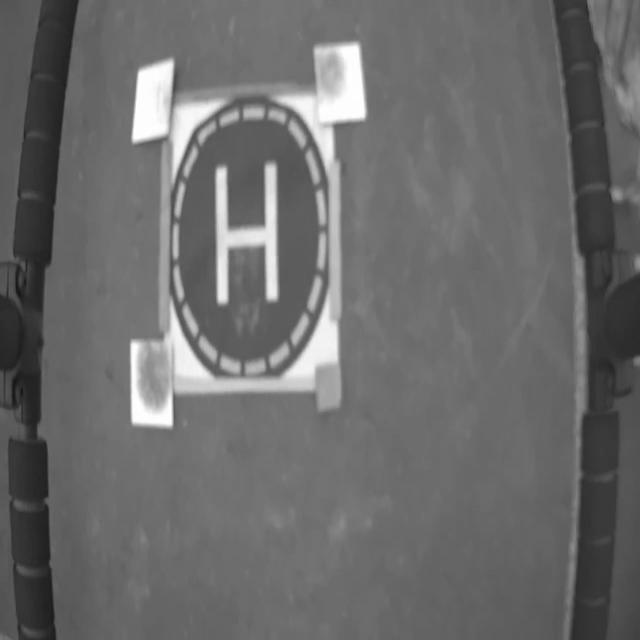Helipad: (216, 162, 278, 307)
